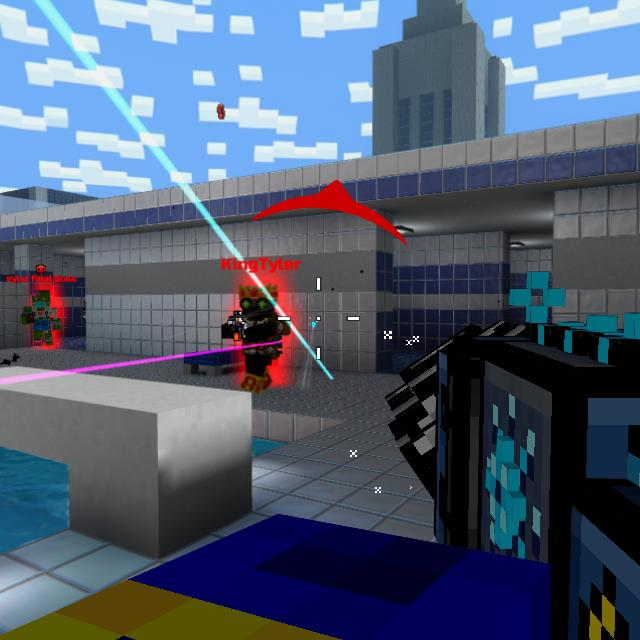Enemy: (223, 283, 294, 393), (22, 291, 61, 346)
